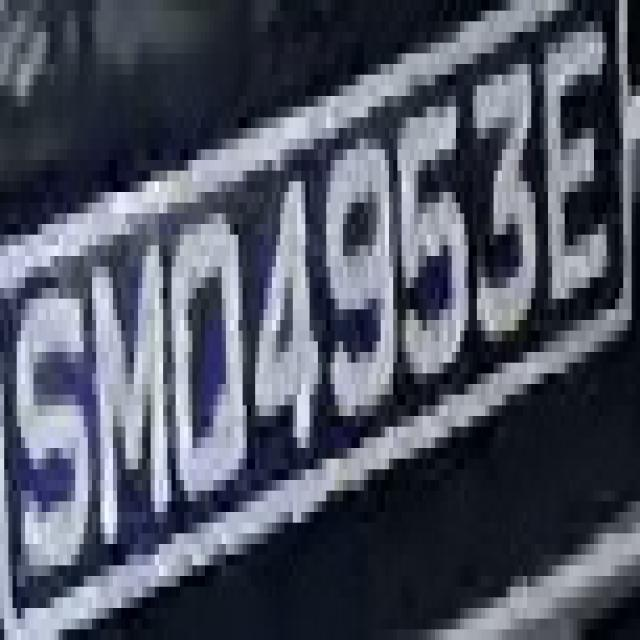3: (460, 43, 540, 352)
4: (243, 150, 322, 470)
5: (393, 85, 477, 384)
9: (314, 106, 397, 426)
E: (540, 43, 615, 320)
M: (80, 202, 172, 522)
Q: (163, 182, 247, 502)
S: (4, 266, 92, 586)
